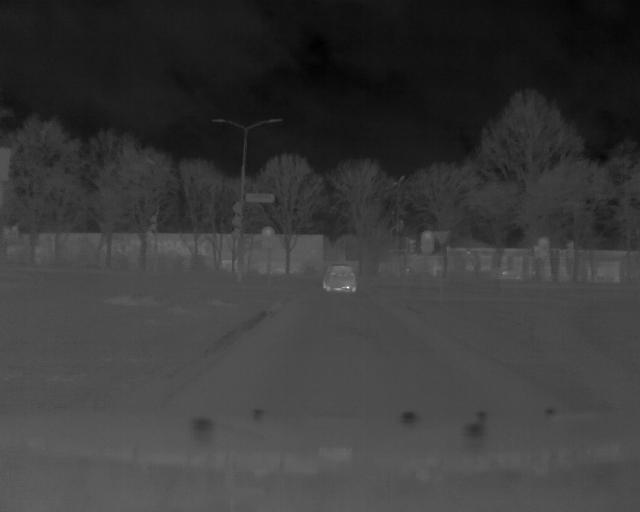car: (322, 260, 358, 297)
